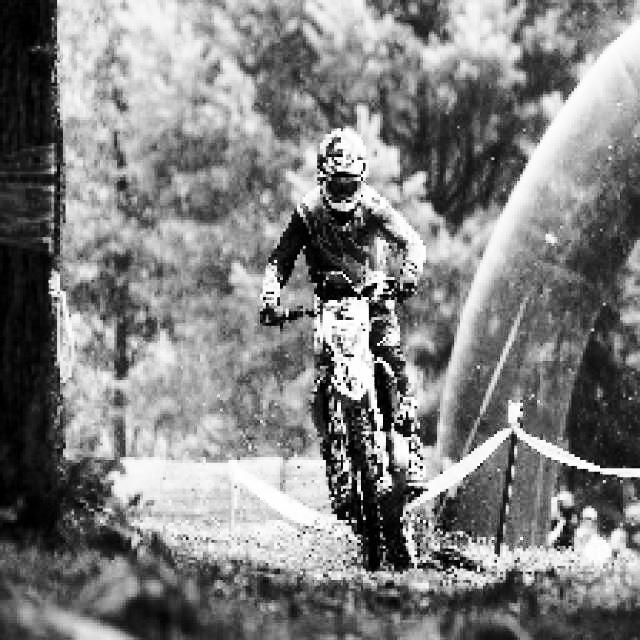Bike: (302, 289, 418, 550)
